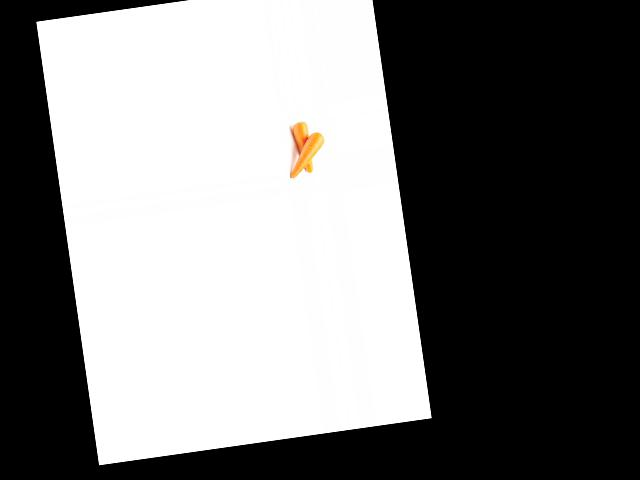carrot: (288, 116, 317, 181)
